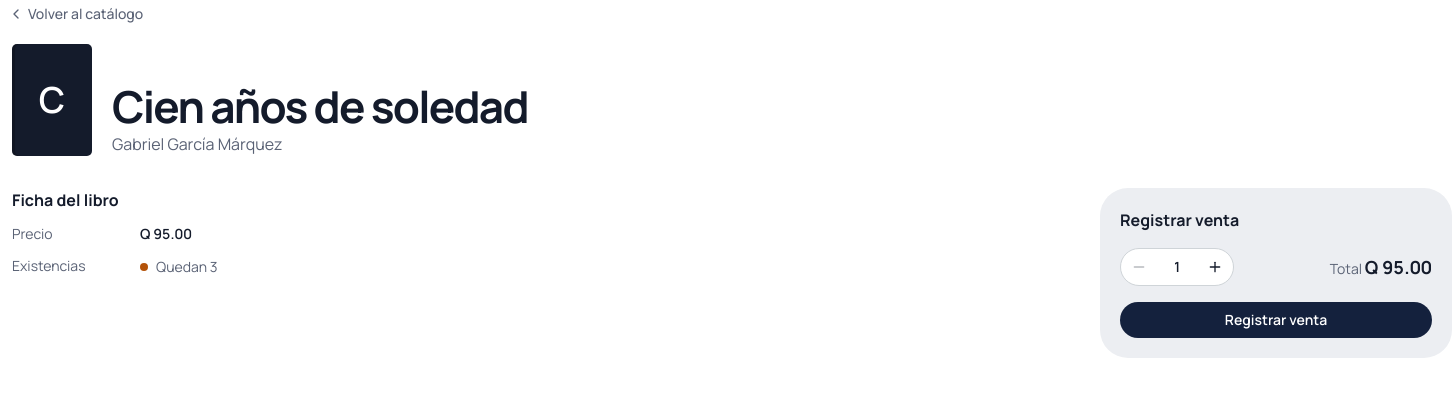
Test: LibroDetallePage › registra la venta, avisa, recarga el libro y vuelve la cantidad a uno
This screenshot has width=1452, height=411.
Check: the heading "Cien años de soledad" is shown, box [112, 81, 528, 132]
Click the button named "Aumentar cantidad".
click(1215, 267)  # box [1197, 249, 1233, 285]
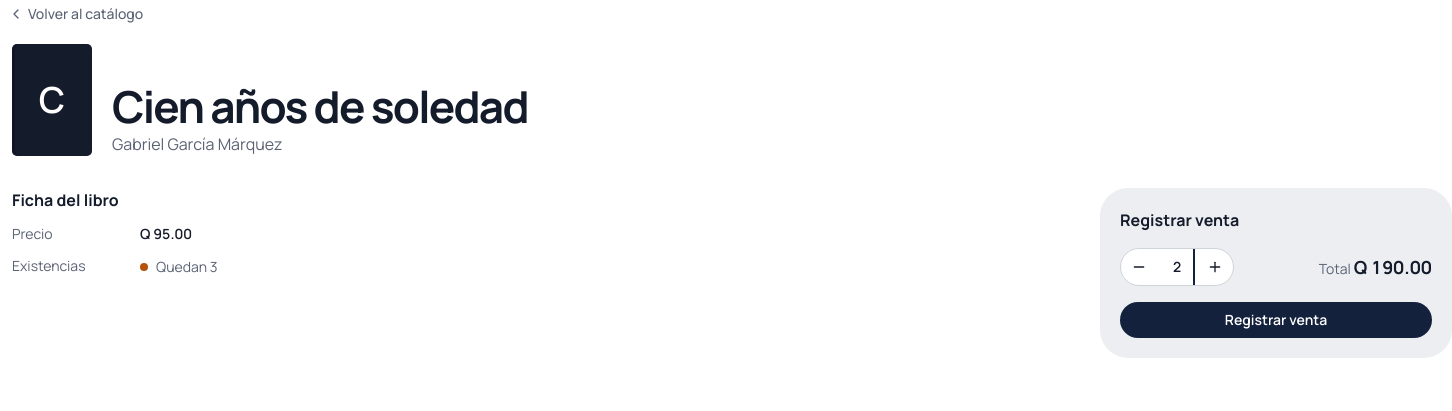
Click the button "Registrar venta".
click(1276, 320)  # box [1120, 302, 1432, 338]
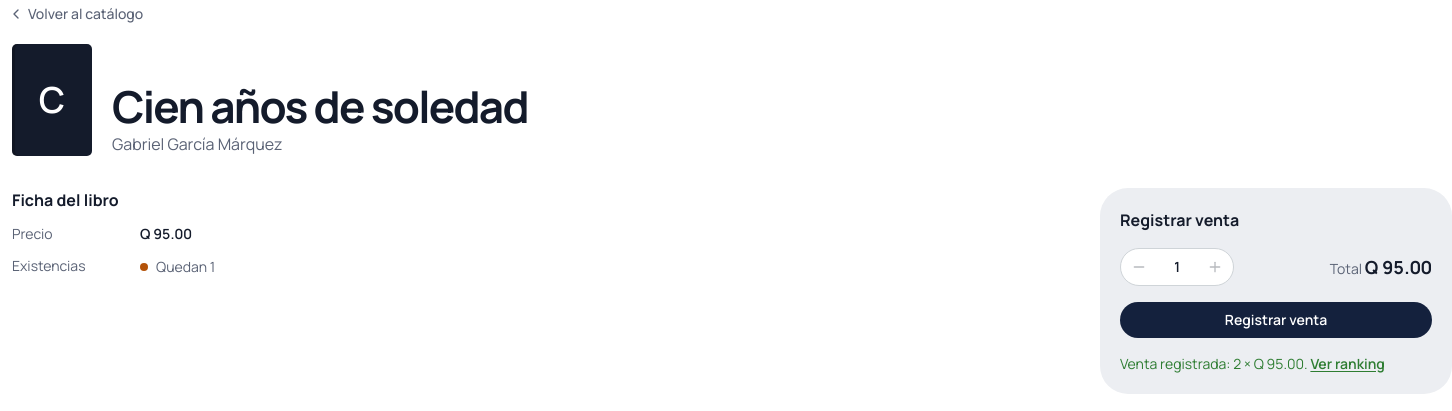
Check: the text "Q 95.00" is shown 2 times, box [140, 224, 192, 243]; [1365, 255, 1432, 279]
Check: the message shows "Venta registrada: 2 × Q 95.00.", box [1120, 354, 1308, 373]
Check: the text "Quedan 1" is shown, box [140, 257, 215, 277]
